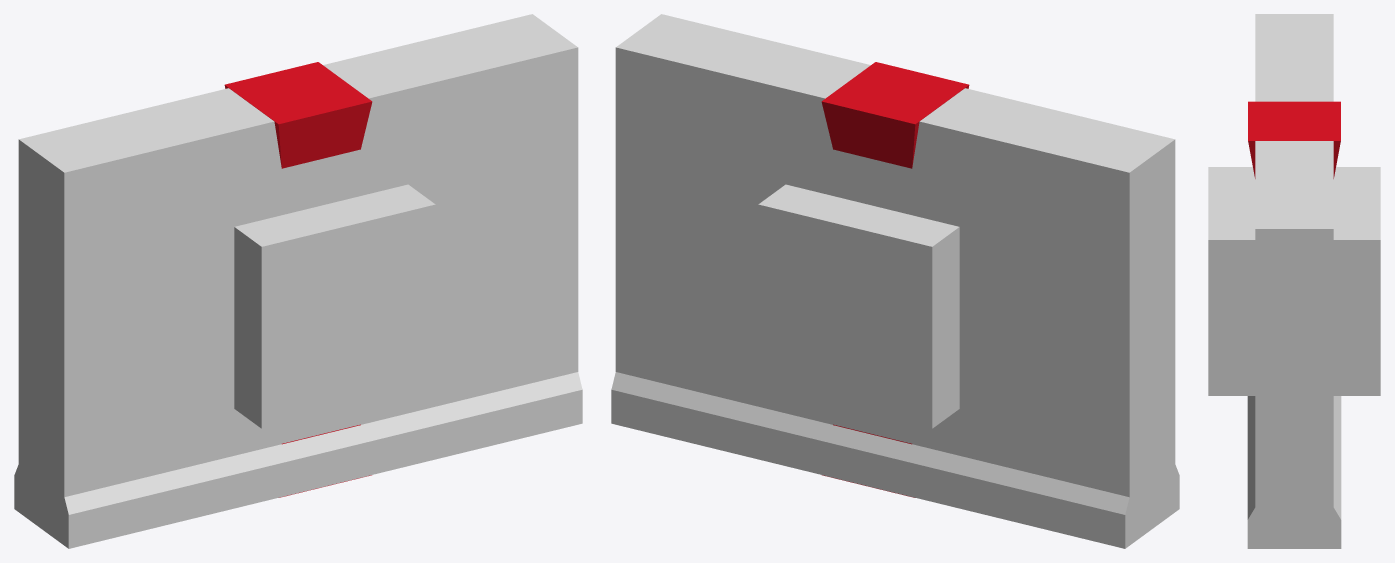
The model's file is murs.fbx.
3 renders of one model, left to right at view 1: azimuth 30°, elevation 25°; view 2: azimuth 150°, elevation 25°; view 3: azimuth 270°, elevation 25°, orthographic. The views are drawn at different scales.
Parts seen in each view (by area): view 1: Cube.002, Cube, Cube.001; view 2: Cube.002, Cube, Cube.001; view 3: Cube.002, Cube, Cube.001.
Part boxes in pixels (left/top/right/bottom): Cube.002: left=14, top=14, right=582, bottom=548; Cube: left=234, top=184, right=435, bottom=428; Cube.001: left=224, top=62, right=372, bottom=497; Cube.002: left=611, top=14, right=1179, bottom=548; Cube: left=758, top=184, right=959, bottom=428; Cube.001: left=821, top=62, right=969, bottom=497; Cube.002: left=1247, top=14, right=1341, bottom=548; Cube: left=1208, top=167, right=1380, bottom=395; Cube.001: left=1248, top=101, right=1340, bottom=178.
Size of the model in its own units: 591 by 411 by 200.
